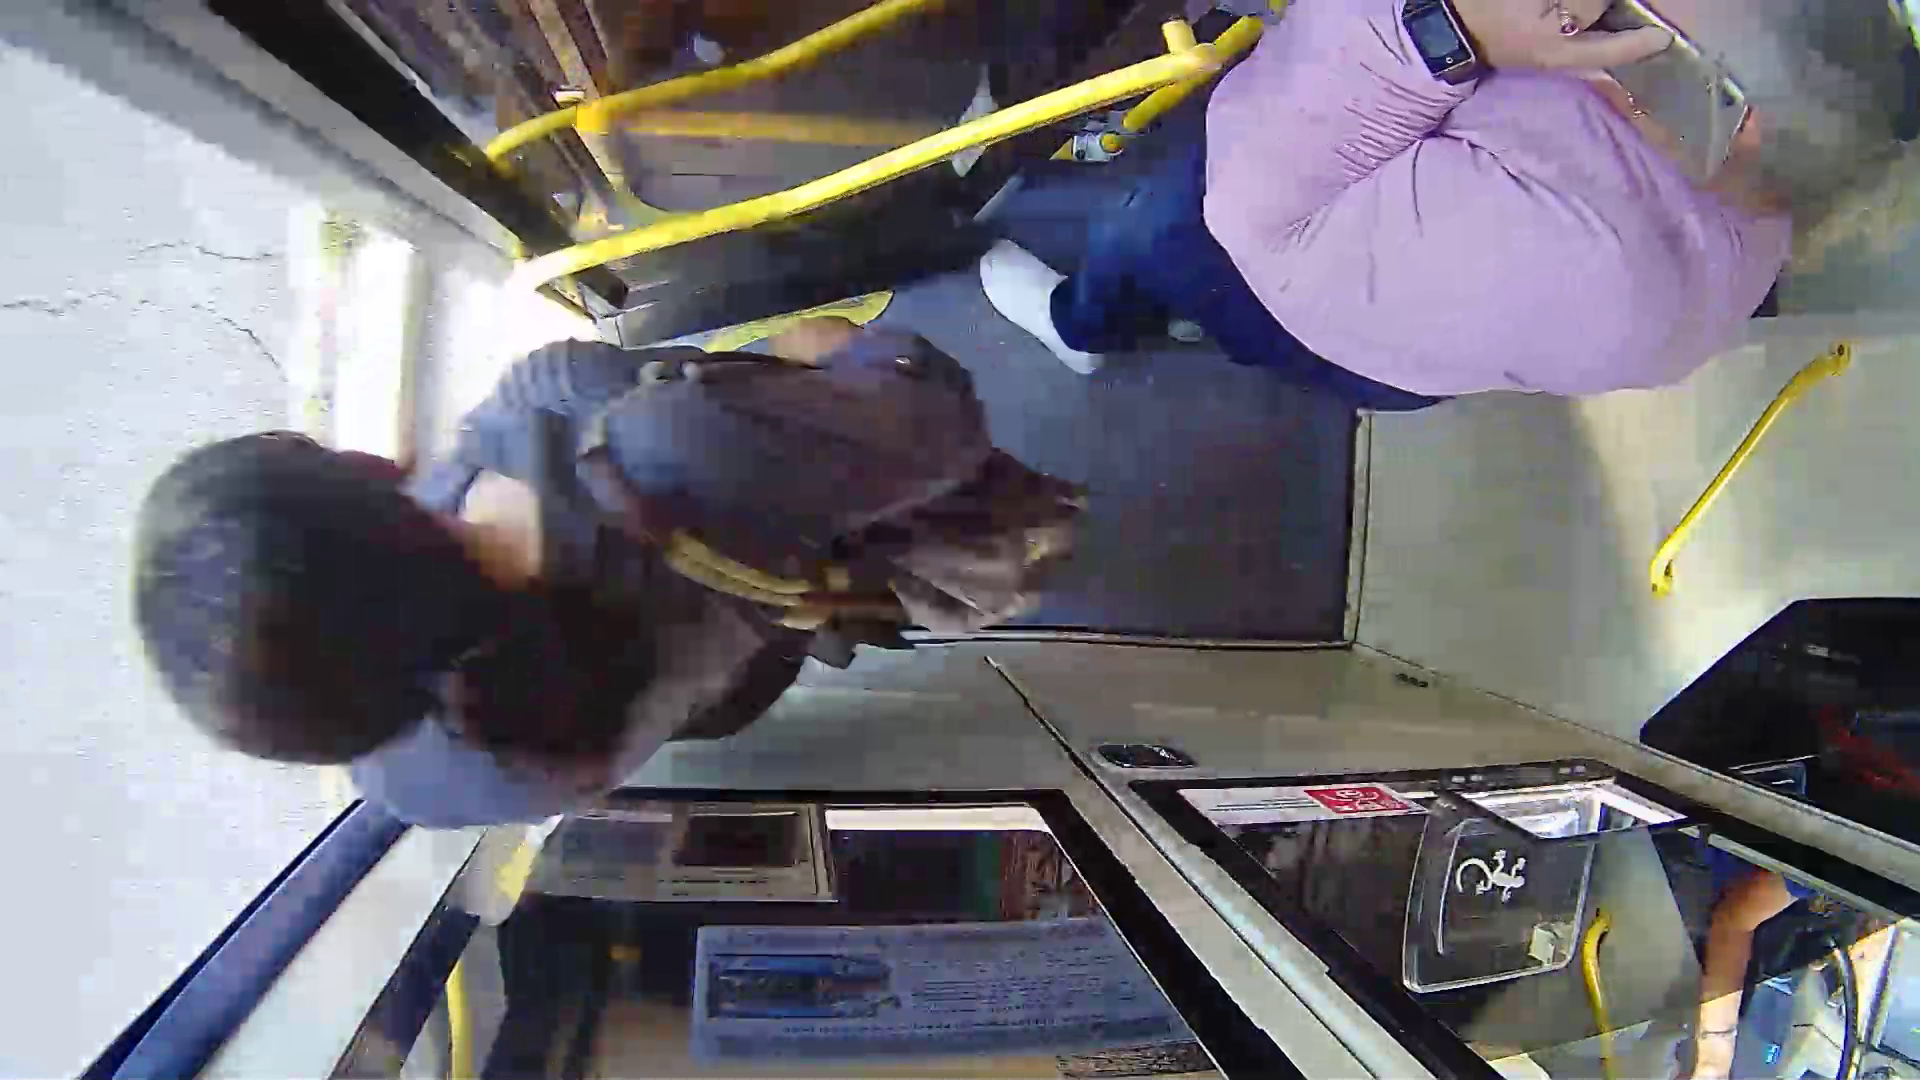person: (146, 273, 1056, 847)
